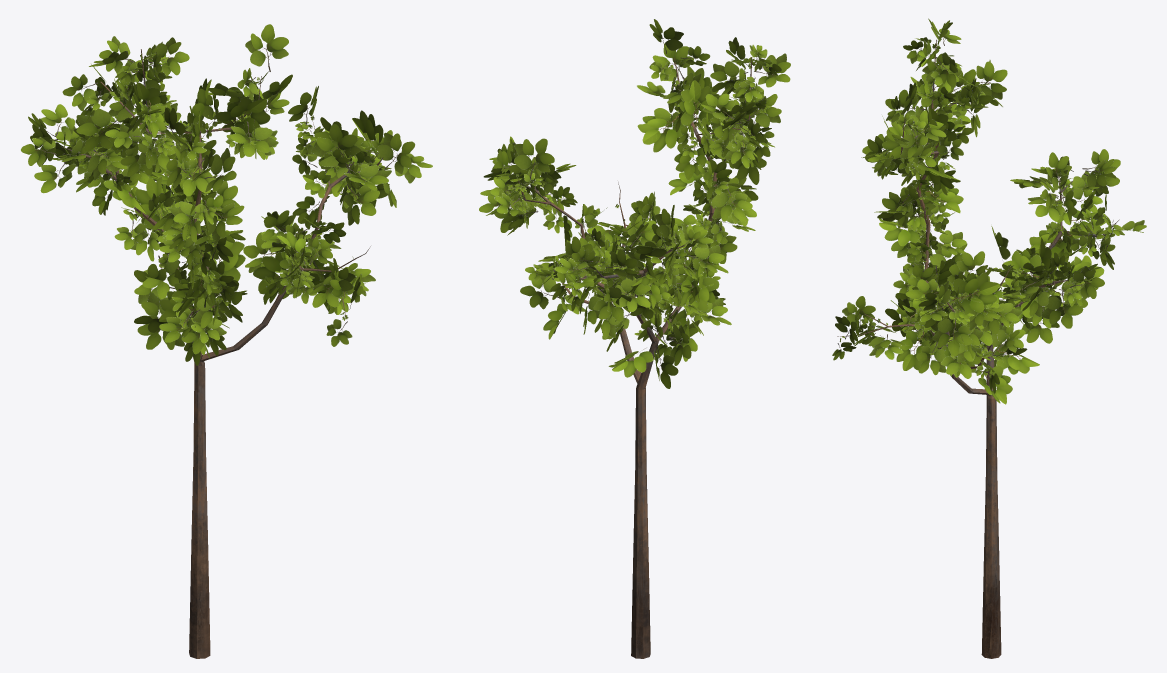
The model's file is Merbau 1.fbx.
The picture shows the model from 3 angles, left to right: view 1: azimuth 30°, elevation 25°; view 2: azimuth 150°, elevation 25°; view 3: azimuth 270°, elevation 25°; orthographic projection. The views are drawn at different scales.
Parts seen in each view (by area): view 1: merbau.001; view 2: merbau.001; view 3: merbau.001.
Part boxes in pixels (left/top/right/bottom): merbau.001: left=21, top=24, right=432, bottom=658; merbau.001: left=479, top=19, right=790, bottom=658; merbau.001: left=832, top=18, right=1146, bottom=658.
Bounding box in the file's own units: 734 × 1369 × 679.
